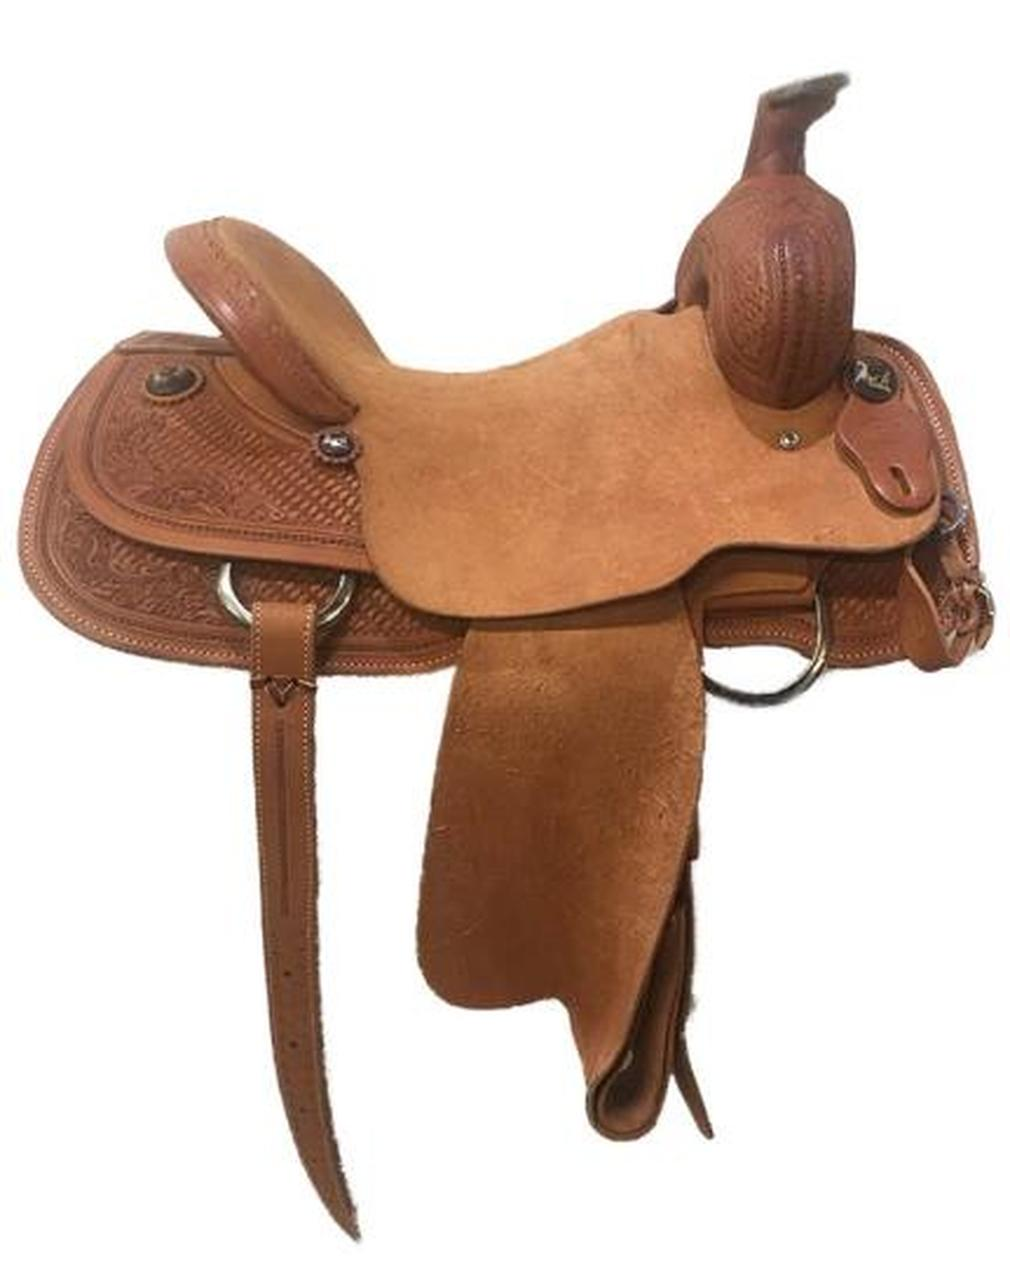saddle: (26, 97, 979, 931), (108, 97, 979, 931)
